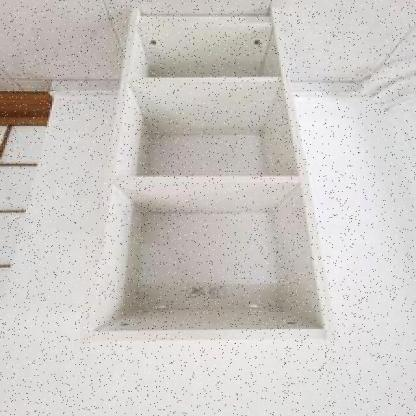Shelf: (74, 3, 344, 353)
